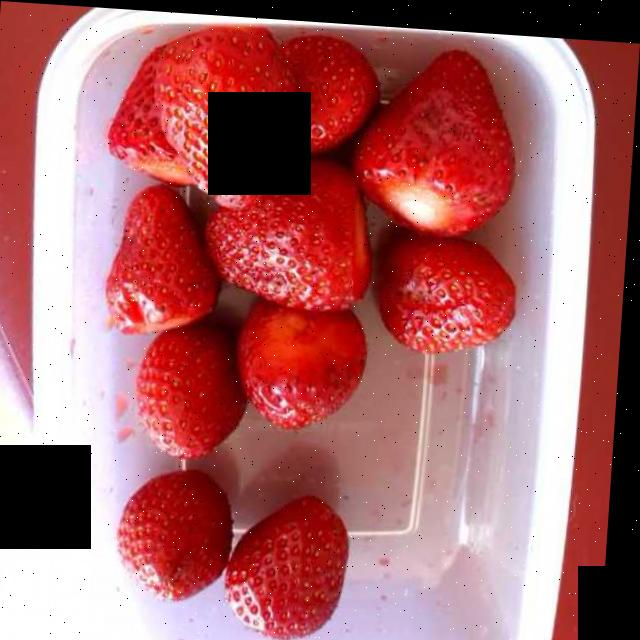strawberries: (84, 37, 552, 640)
